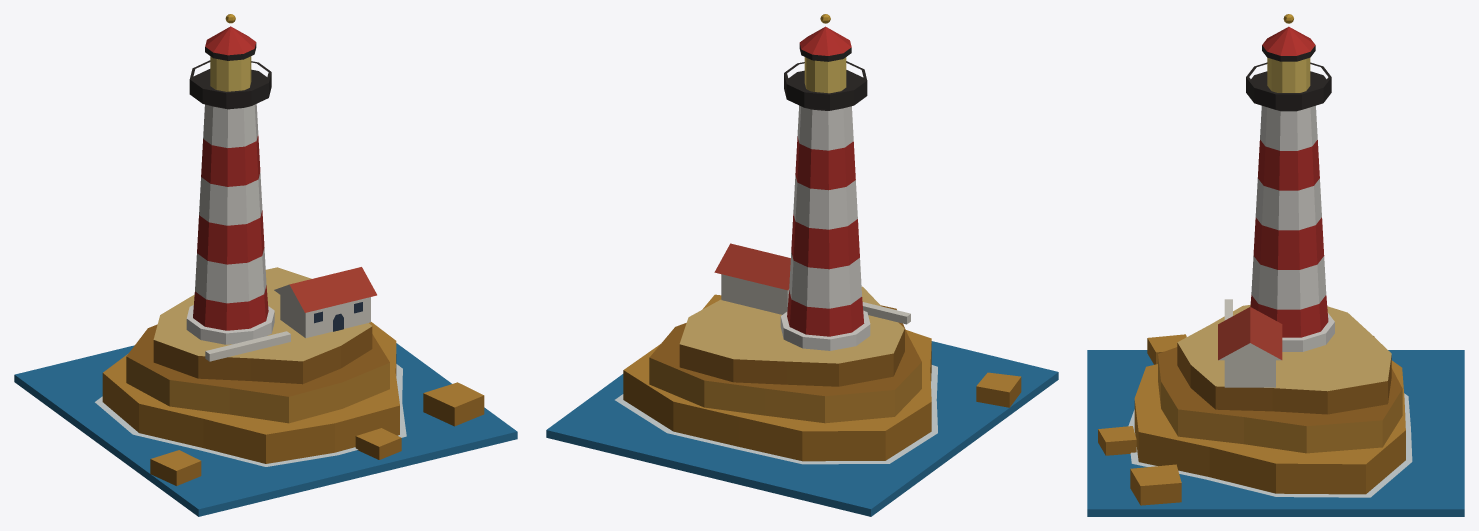
The model's file is phare.glb.
3 views of the same model, side by side, from view 1: azimuth 30°, elevation 25°; view 2: azimuth 150°, elevation 25°; view 3: azimuth 270°, elevation 25° (orthographic). The views are drawn at different scales.
Parts seen in each view (by area): view 1: phare; view 2: phare; view 3: phare.
Part boxes in pixels (x1,y1,x2,y2): phare: (14,14,517,516); phare: (546,14,1058,516); phare: (1087,14,1464,516).
Size of the model in its own units: 1.76 by 2.11 by 1.76.
